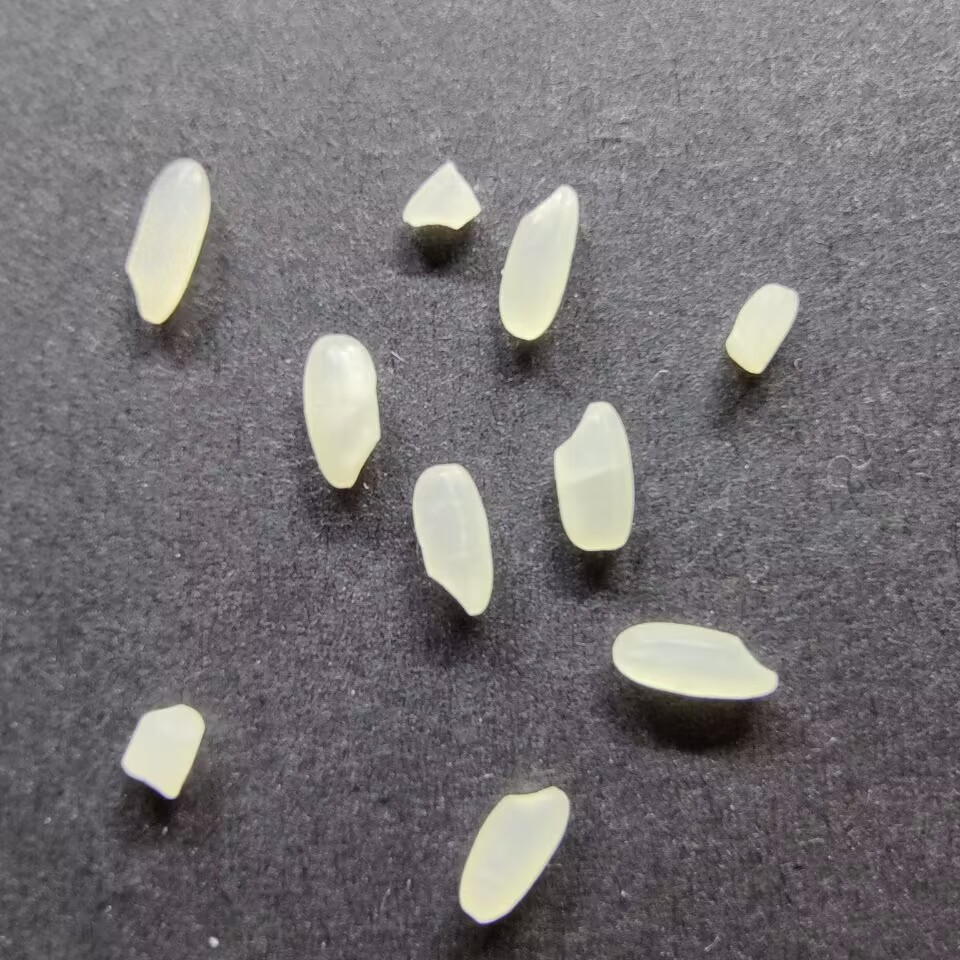broken: (118, 702, 206, 801), (723, 281, 800, 376), (400, 160, 485, 233)
rice: (456, 783, 571, 925), (122, 158, 213, 325), (610, 620, 779, 702), (409, 462, 495, 616), (300, 332, 383, 489), (550, 399, 635, 552), (497, 183, 579, 341)
